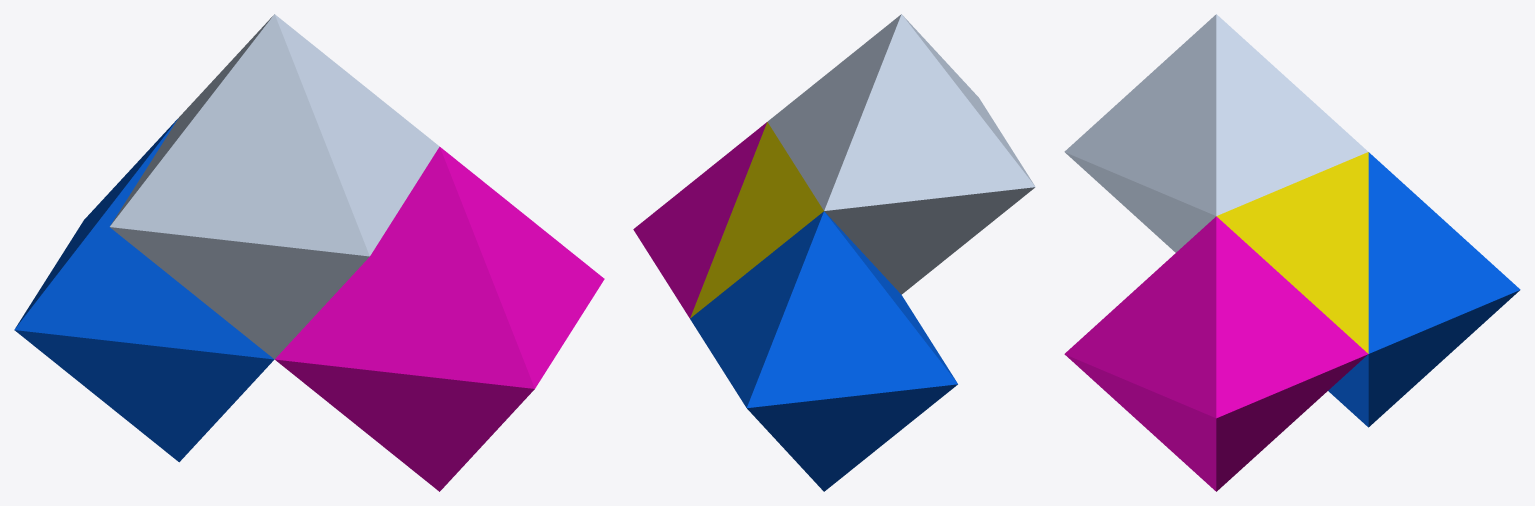
File: octTet_1.glb
The picture shows the model from 3 angles, left to right: view 1: azimuth 30°, elevation 25°; view 2: azimuth 150°, elevation 25°; view 3: azimuth 270°, elevation 25°; orthographic projection. The views are drawn at different scales.
Bounding box in the file's own units: 6 × 6 × 6.
